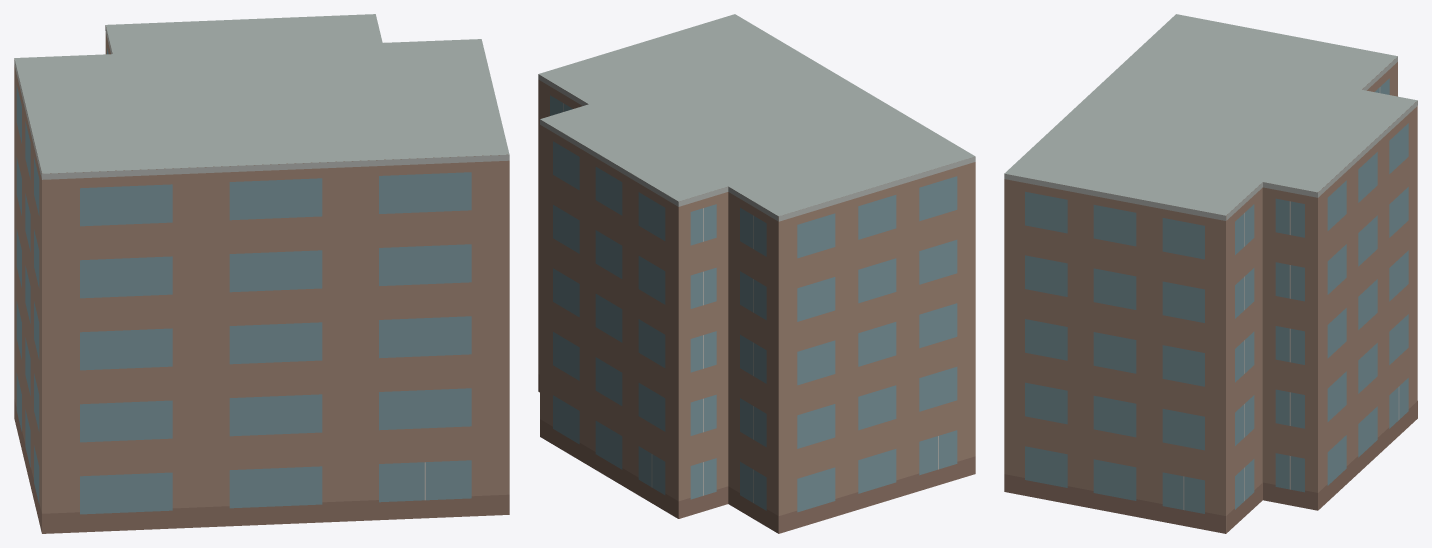
The model's file is survey-upis-32659025.glb.
The picture shows the model from 3 angles, left to right: view 1: azimuth 30°, elevation 25°; view 2: azimuth 150°, elevation 25°; view 3: azimuth 270°, elevation 25°; orthographic projection. The views are drawn at different scales.
Parts seen in each view (by area): view 1: survey-upis-32659025.tmp; view 2: survey-upis-32659025.tmp; view 3: survey-upis-32659025.tmp.
Boxes of the visible parts, bbox=[...] form: survey-upis-32659025.tmp: bbox=[14, 14, 509, 533]; survey-upis-32659025.tmp: bbox=[538, 14, 975, 533]; survey-upis-32659025.tmp: bbox=[1004, 14, 1417, 533].
Bounding box in the file's own units: 19.65 × 14.45 × 17.03.
